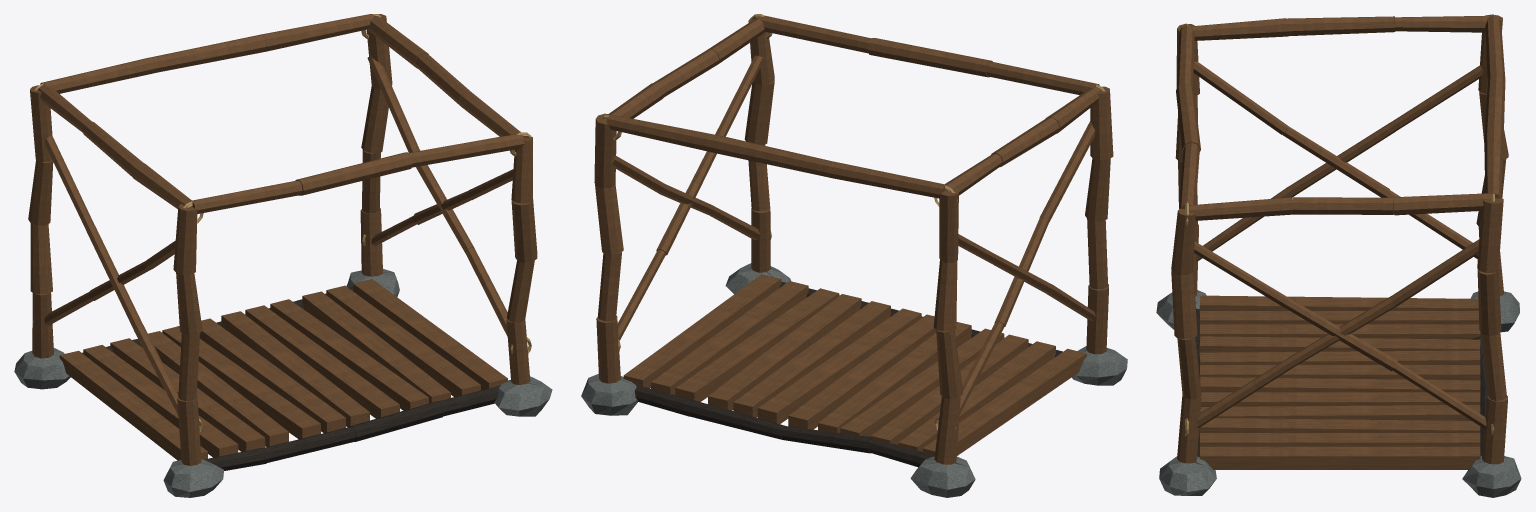
The model's file is cs-002_shelter_partial_frame.obj.
The picture shows the model from 3 angles, left to right: view 1: azimuth 30°, elevation 25°; view 2: azimuth 150°, elevation 25°; view 3: azimuth 270°, elevation 25°; orthographic projection. The views are drawn at different scales.
Parts seen in each view (by area): view 1: cs-002_shelter_partial_frame; view 2: cs-002_shelter_partial_frame; view 3: cs-002_shelter_partial_frame.
Part boxes in pixels (x1=…): cs-002_shelter_partial_frame: x1=14, y1=14, x2=552, y2=497; cs-002_shelter_partial_frame: x1=581, y1=14, x2=1127, y2=497; cs-002_shelter_partial_frame: x1=1156, y1=14, x2=1521, y2=497.
Bounding box in the file's own units: 2.13 × 1.6 × 1.69.
Materials: 4 (4 with a texture image).
